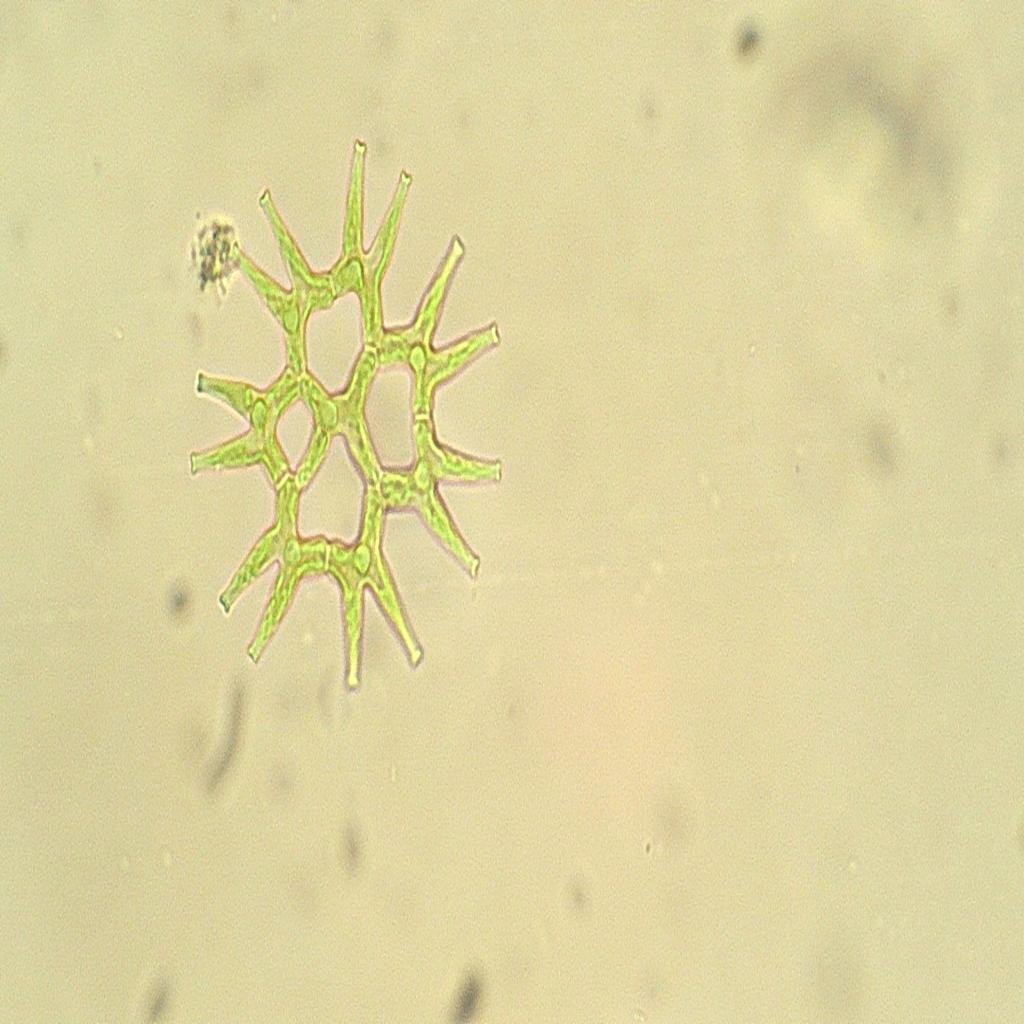Pediastrum_1T: (180, 119, 533, 718)
